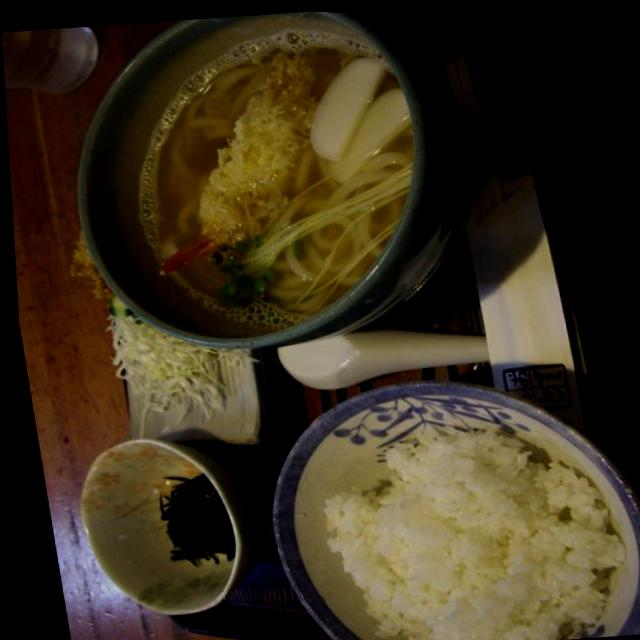面条主食: (75, 9, 465, 353)
